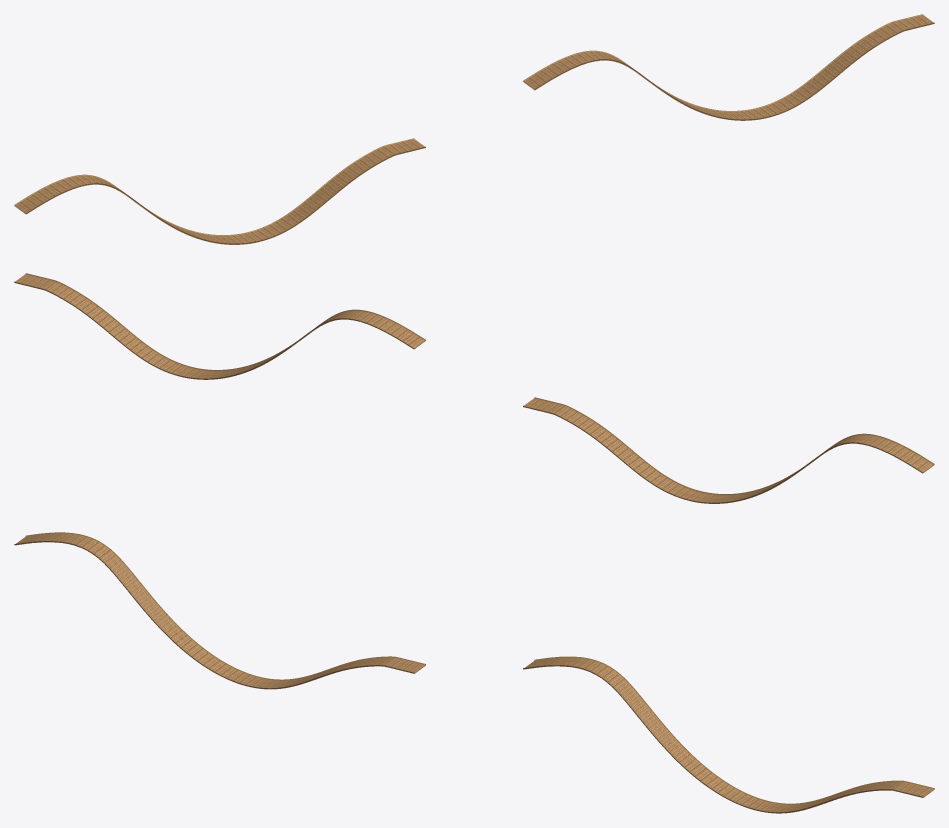
The model's file is Ramp.fbx.
3 views of the same model, one above another, from view 1: azimuth 30°, elevation 25°; view 2: azimuth 150°, elevation 25°; view 3: azimuth 330°, elevation 25° (orthographic).
Visible parts, largest first — view 1: Cube.001; view 2: Cube.001; view 3: Cube.001.
Boxes of the visible parts, left/top/right/bottom form: Cube.001: left=14, top=14, right=934, bottom=244; Cube.001: left=14, top=273, right=934, bottom=503; Cube.001: left=14, top=532, right=934, bottom=813.
Bounding box in the file's own units: 20239 × 2128 × 456.
1 material, 1 textured.
